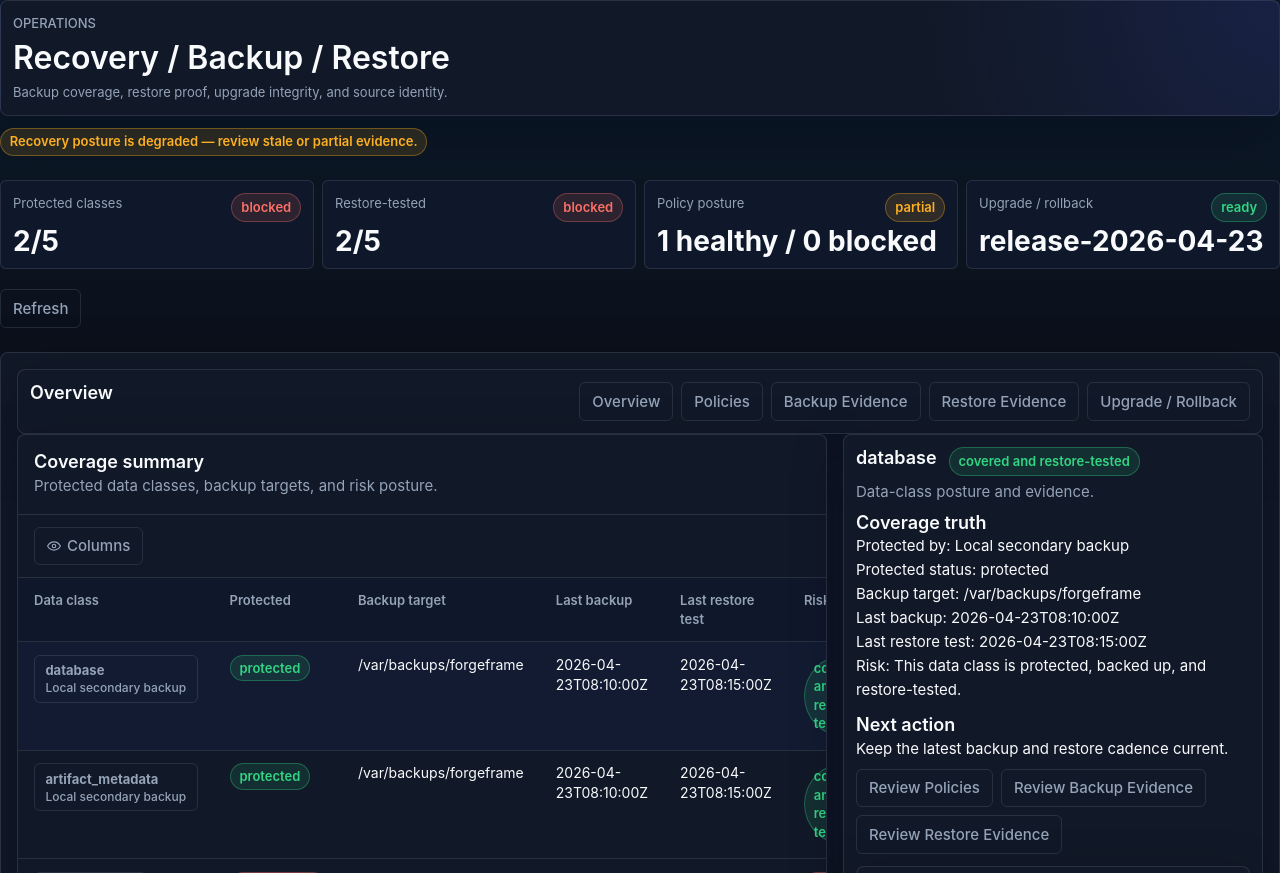
Recovery page › loads overview posture and separates coverage, policy, backup, restore, and upgrade workflows
Click the button "Policies".
click(722, 402)  # box [681,382,763,421]
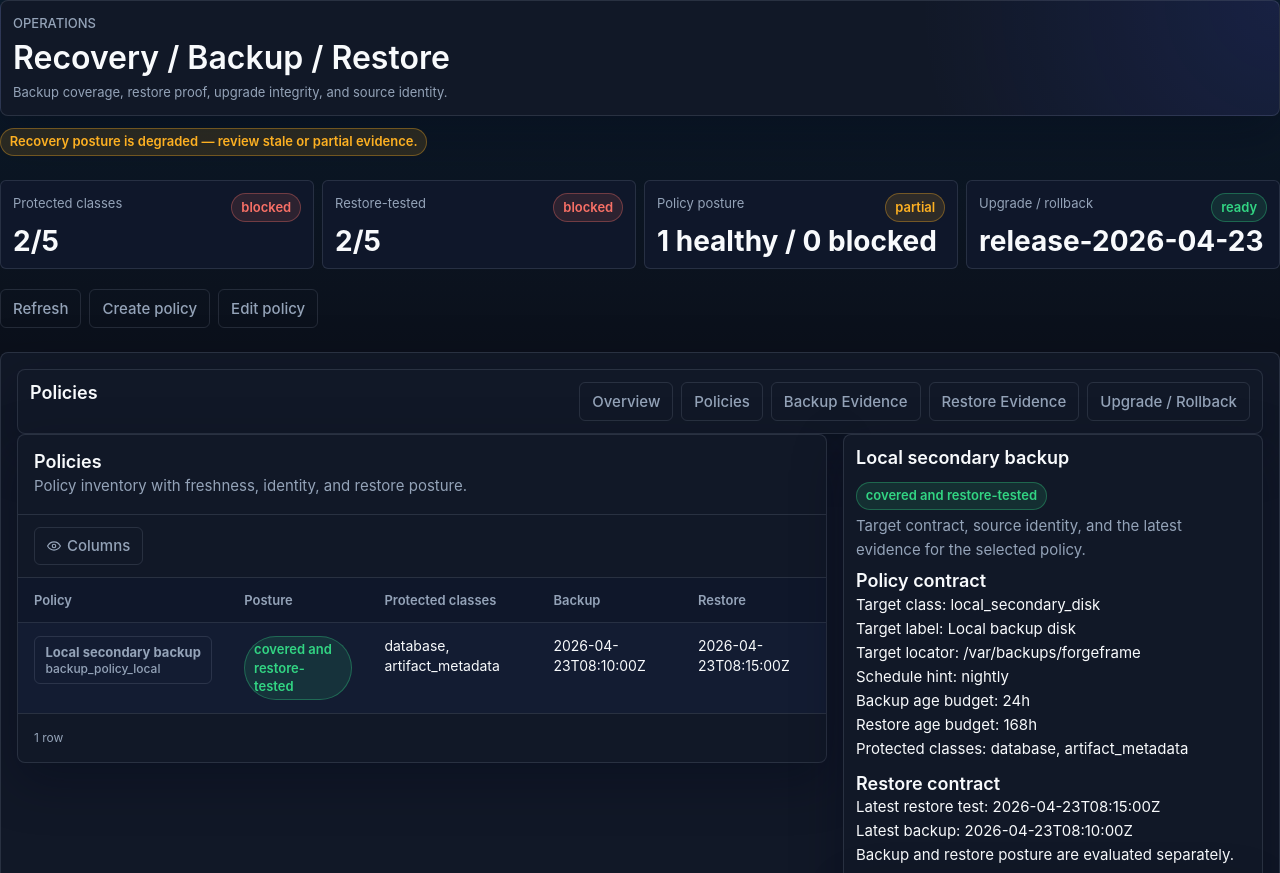
Check: the text "Create policy" is shown, box [90,290,210,328]
Check: the text "Edit policy" is shown, box [218,290,318,328]
Click the button "Backup Evidence".
click(846, 402)  # box [771,382,920,421]
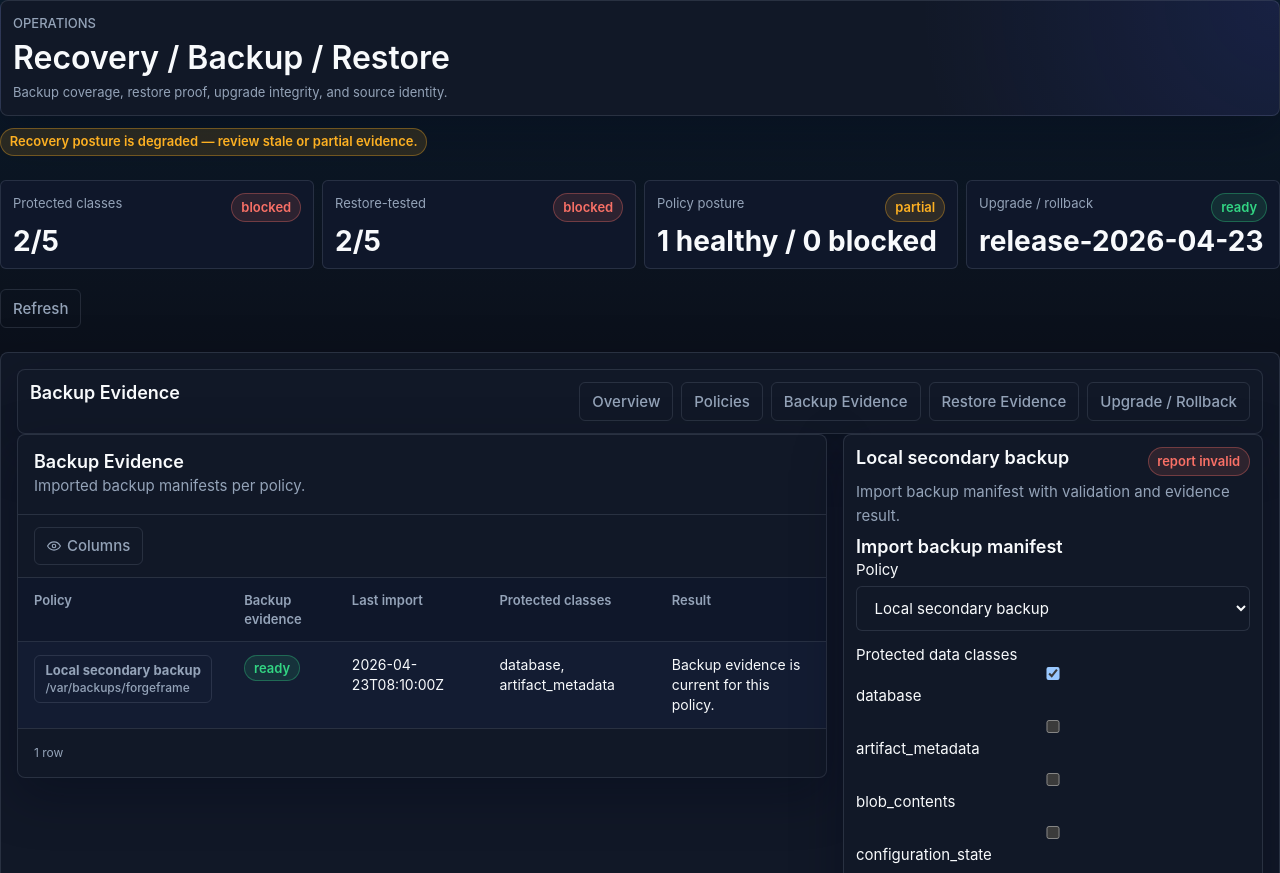
Check: the text "Import backup manifest" is shown, box [856,482,1230,525]
Click the button "Restore Evidence".
click(1004, 402)  # box [928,382,1079,421]
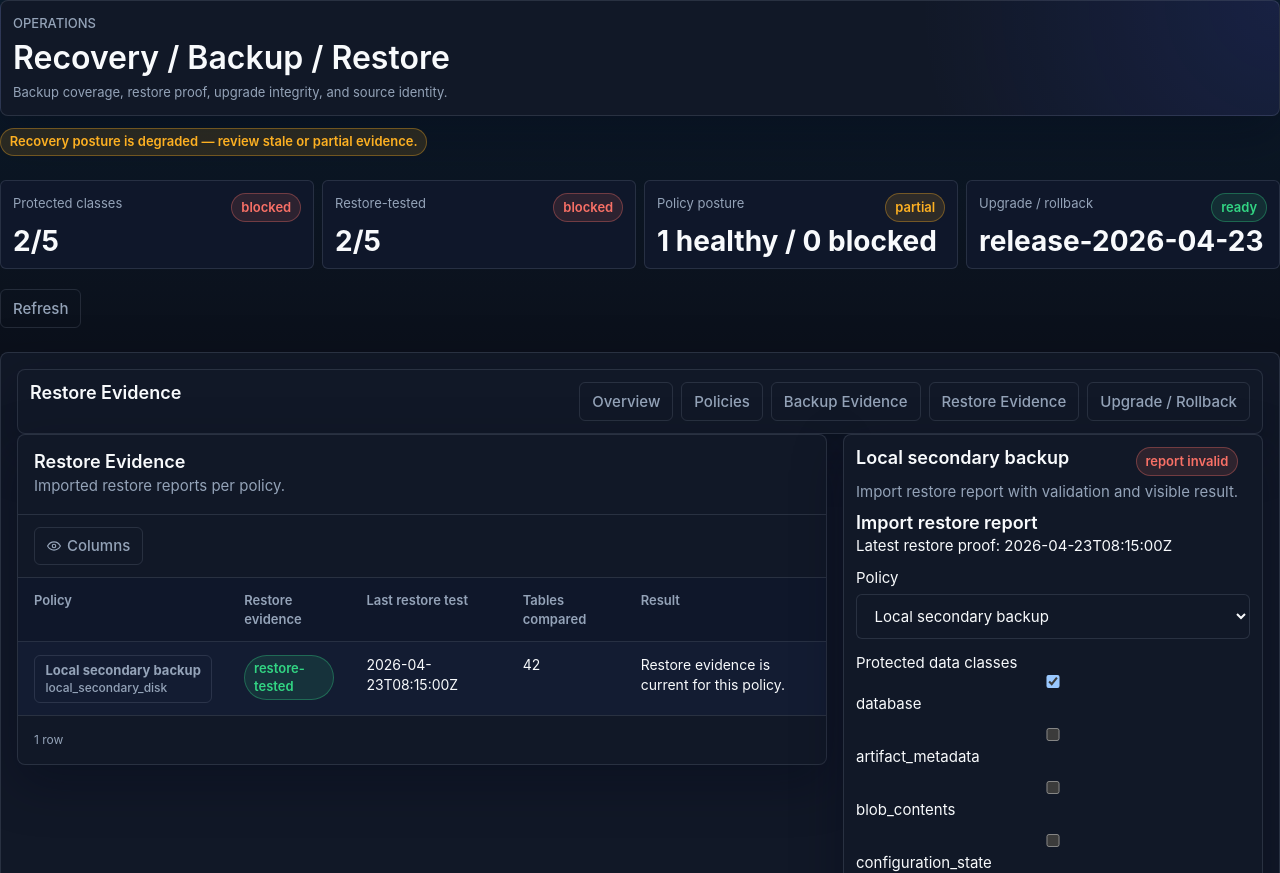
Check: the text "Import restore report" is shown, box [856,482,1238,501]
Click the button "Upgrade / Rollback".
click(1169, 402)  # box [1087,382,1250,421]
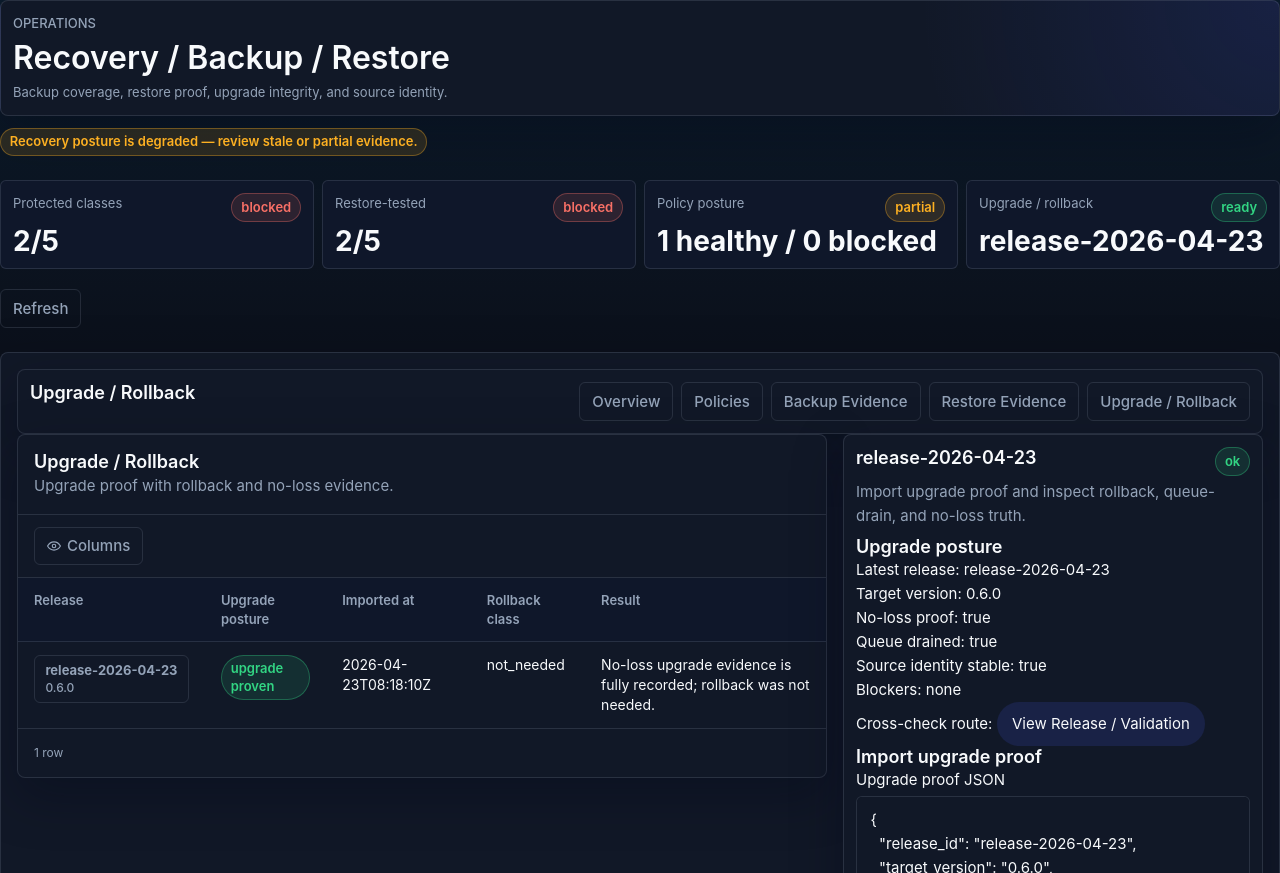
Check: the text "Import upgrade proof" is shown, box [856,482,1215,525]
